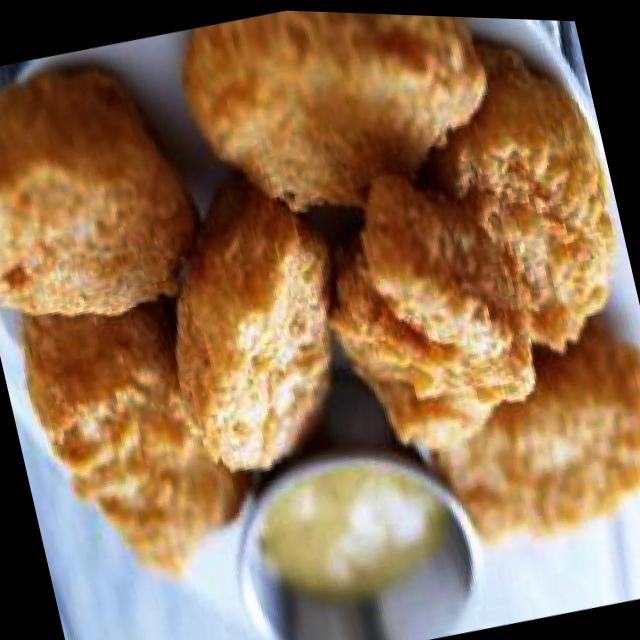chicken_nuggets: (0, 0, 640, 640), (298, 144, 562, 472), (13, 273, 268, 594), (172, 6, 509, 246), (135, 162, 375, 492), (419, 22, 639, 370), (0, 41, 219, 344), (428, 302, 640, 552)
